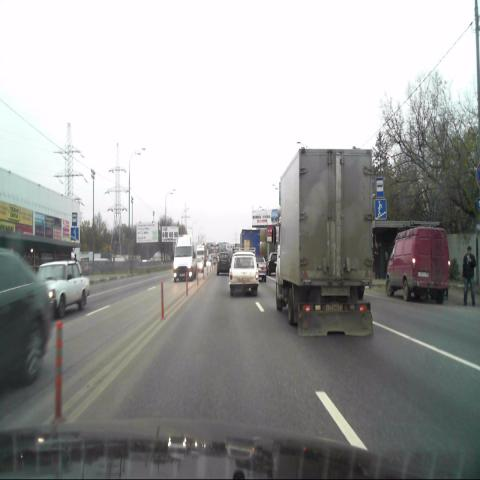6_6: (375, 198, 386, 220)
